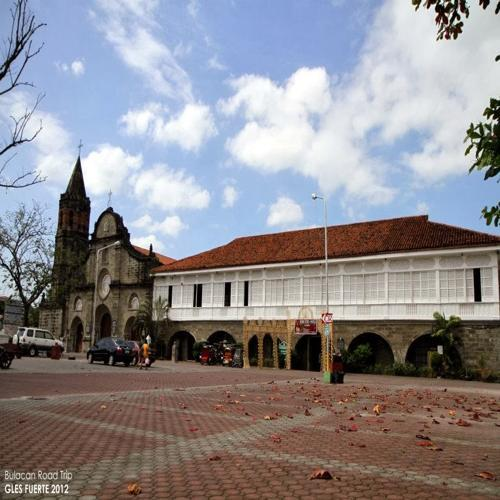Barasoain Church: (29, 136, 155, 366)
